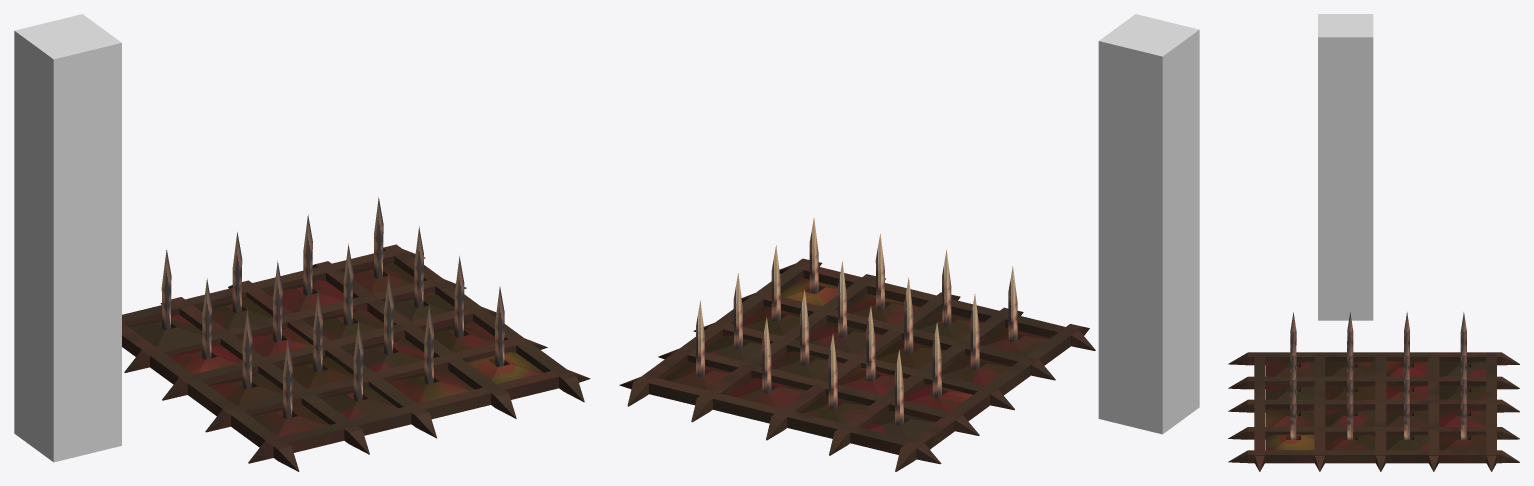
Rendered from M_SPIKES_FINAL.fbx.
The picture shows the model from 3 angles, left to right: view 1: azimuth 30°, elevation 25°; view 2: azimuth 150°, elevation 25°; view 3: azimuth 270°, elevation 25°; orthographic projection. The views are drawn at different scales.
Parts seen in each view (by area): view 1: Cube, Cube.003, Base.007, Base.012, Base.009, Base.014, Base.010, Base, Base.006, PARENTBASE, Base.011, Base.008 (+22 smaller); view 2: Cube, Cube.003, Base, Base.009, Base.010, Base.007, PARENTBASE, Base.004, Base.012, Base.015, Base.011, Base.002 (+18 smaller); view 3: Cube.003, Cube, Base.008, Base.009, Base.007, Base.006, Base.001, Base, Base.010, Base.012, Base.005, PARENTBASE (+9 smaller).
Part boxes in pixels (bbox=[...]): Cube: bbox=[14, 14, 121, 462]; Cube.003: bbox=[122, 244, 590, 471]; Base.007: bbox=[388, 369, 474, 403]; Base.012: bbox=[250, 403, 329, 437]; Base.009: bbox=[346, 338, 424, 372]; Base.014: bbox=[320, 386, 397, 419]; Base.010: bbox=[208, 373, 282, 405]; Base: bbox=[266, 280, 343, 312]; Base.006: bbox=[467, 352, 543, 384]; PARENTBASE: bbox=[128, 314, 202, 346]; Base.011: bbox=[279, 356, 353, 388]; Base.008: bbox=[434, 320, 494, 352]; Cube: bbox=[1098, 14, 1199, 434]; Cube.003: bbox=[619, 258, 1095, 471]; Base: bbox=[728, 378, 806, 408]; Base.009: bbox=[809, 322, 881, 354]; Base.010: bbox=[941, 355, 1011, 385]; Base.007: bbox=[847, 293, 920, 324]; PARENTBASE: bbox=[864, 410, 935, 439]; Base.004: bbox=[771, 351, 843, 380]; Base.012: bbox=[979, 327, 1049, 356]; Base.015: bbox=[800, 395, 869, 423]; Base.011: bbox=[875, 339, 944, 369]; Base.002: bbox=[904, 383, 972, 411]; Cube.003: bbox=[1228, 352, 1519, 471]; Cube: bbox=[1318, 14, 1373, 320]; Base.008: bbox=[1325, 434, 1375, 450]; Base.009: bbox=[1325, 409, 1375, 426]; Base.007: bbox=[1265, 409, 1314, 426]; Base.006: bbox=[1265, 434, 1314, 450]; Base.001: bbox=[1439, 434, 1486, 450]; Base: bbox=[1439, 409, 1486, 426]; Base.010: bbox=[1325, 361, 1375, 376]; Base.012: bbox=[1265, 361, 1314, 376]; Base.005: bbox=[1386, 434, 1428, 450]; PARENTBASE: bbox=[1439, 361, 1486, 376].
Bounding box in the file's own units: 726 × 576 × 527.
Materials: 3 (3 with a texture image).
